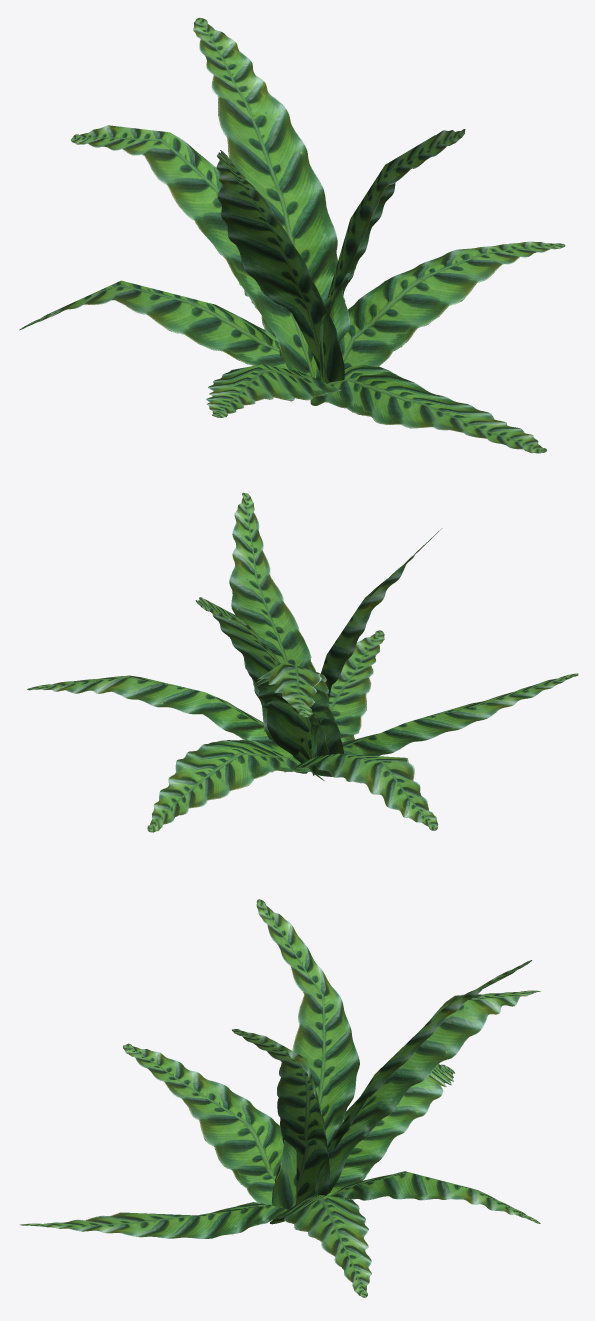
Rendered from SpottedBanana.FBX.
The picture shows the model from 3 angles, top to bottom: view 1: azimuth 30°, elevation 25°; view 2: azimuth 150°, elevation 25°; view 3: azimuth 270°, elevation 25°; orthographic projection. The views are drawn at different scales.
Parts seen in each view (by area): view 1: BananaSpotted; view 2: BananaSpotted; view 3: BananaSpotted.
Boxes of the visible parts, bbox=[...] form: BananaSpotted: bbox=[19, 17, 565, 453]; BananaSpotted: bbox=[27, 492, 578, 832]; BananaSpotted: bbox=[20, 899, 540, 1297].
Bounding box in the file's own units: 4.76 × 2.6 × 4.88.
